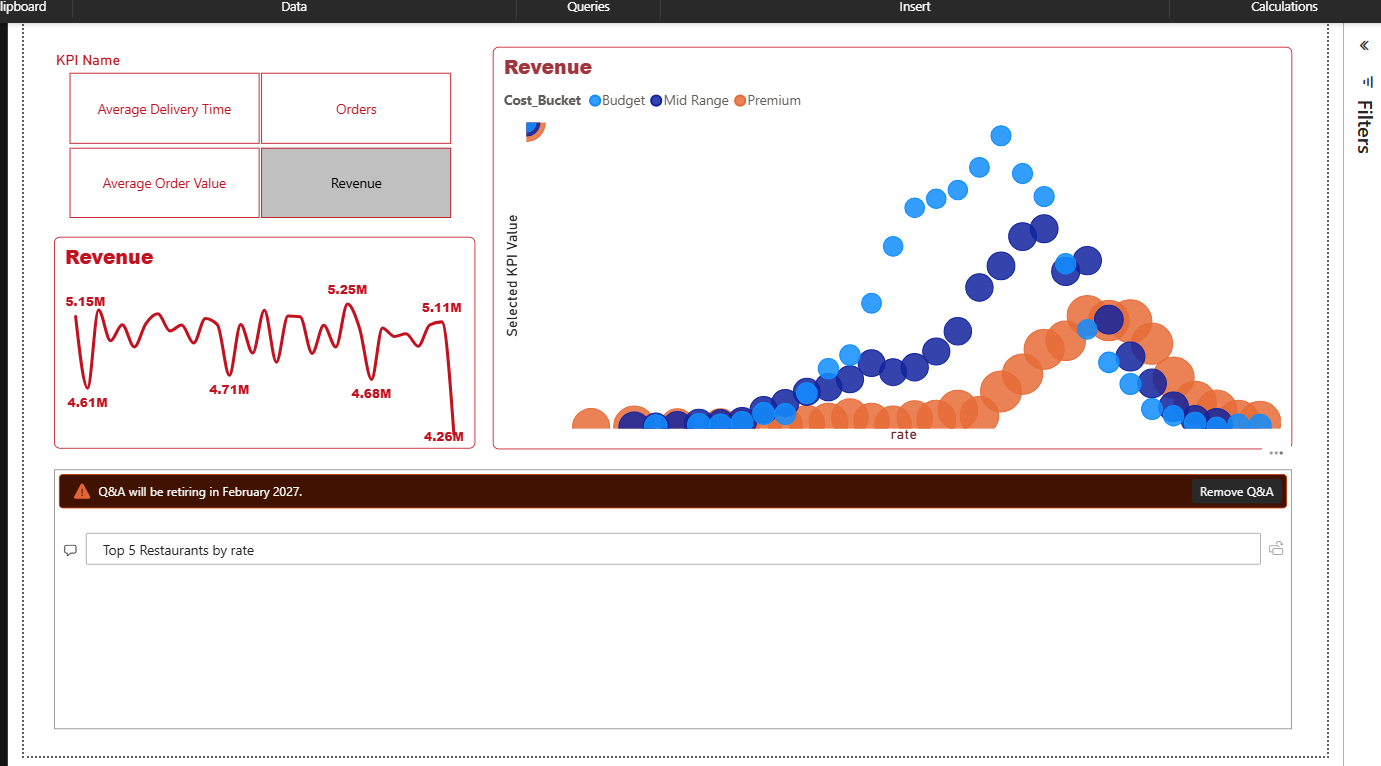

This screenshot's page, from the dashboard's own definition file:
{"tool":"powerbi","page":{"name":"Advanced Insights","canvas":[1280,720],"ordinal":4},"visuals":[{"type":"slicer","fields":{"Values":["KPI.KPI Name"]},"box":[18.3,23.3,425,175],"z":0},{"type":"lineChart","fields":{"Category":["DateTable.Date.Variation.Date Hierarchy.Year","DateTable.Date.Variation.Date Hierarchy.Month"],"Y":["Orders.Selected KPI Value"]},"box":[30,210,413.3,208.3],"z":1000},{"type":"scatterChart","fields":{"X":["Restaurants.rate"],"Series":["Restaurants.Cost_Bucket"],"Size":["Avg(Restaurants.CostForTwo)"],"Y":["Orders.Selected KPI Value"]},"box":[460,23.3,785,395],"z":2000},{"type":"qnaVisual","box":[30,438.3,1215,255],"z":3000}]}

Visuals, with their boxes on the page's 1280x720 design canvas (x1, y1, x2, y2). These are canvas units, not pixel positions in the 1381x766 screenshot, which may show the page scaled, cropped or inside an application window:
slicer - KPI.KPI Name: (x1=18, y1=23, x2=443, y2=198)
lineChart - DateTable.Date.Variation.Date Hierarchy.Year x DateTable.Date.Variation.Date Hierarchy.Month: (x1=30, y1=210, x2=443, y2=418)
scatterChart - Restaurants.rate x Restaurants.Cost_Bucket: (x1=460, y1=23, x2=1245, y2=418)
qnaVisual: (x1=30, y1=438, x2=1245, y2=693)
